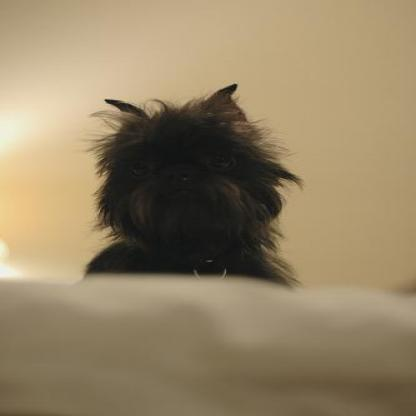affenpinscher: (78, 79, 306, 290)
